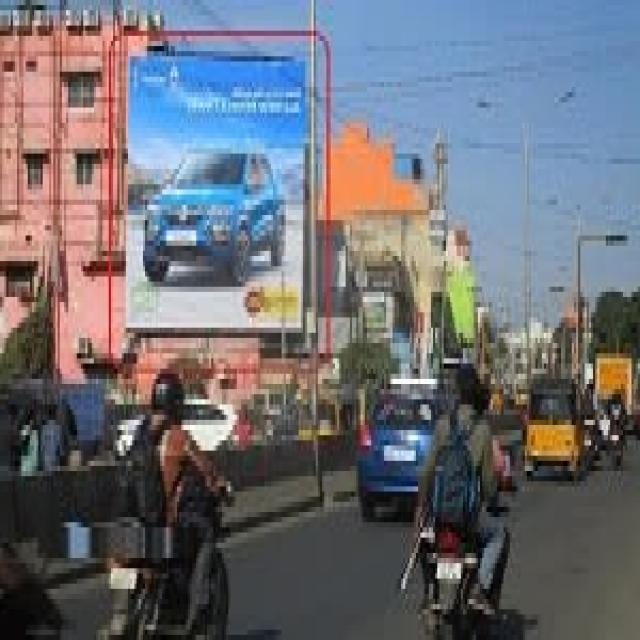Werbetafel frei: (128, 55, 305, 336)
